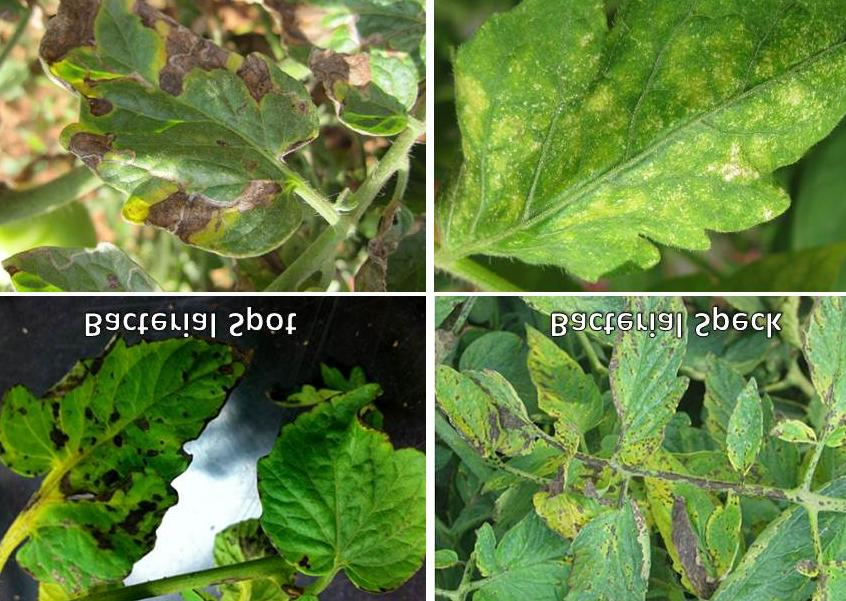Tomato Early blight leaf: (7, 0, 336, 264)
Tomato leaf bacterial spot: (0, 315, 257, 593), (247, 341, 426, 601), (599, 299, 683, 480), (522, 305, 605, 472), (542, 483, 658, 601), (451, 509, 595, 601), (768, 299, 846, 466), (446, 347, 541, 460), (695, 483, 748, 590)
